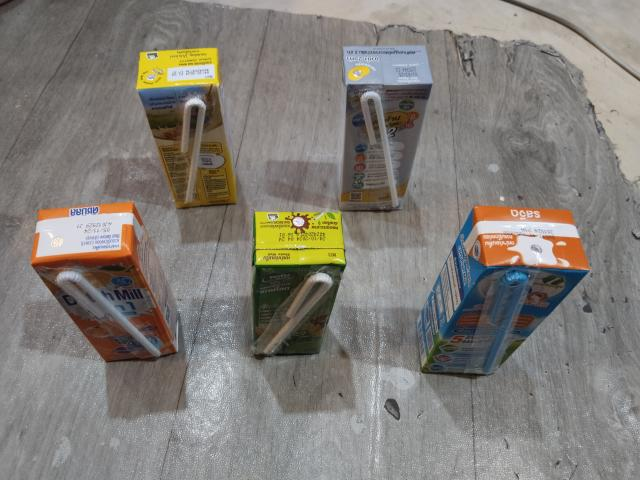drink_box: (406, 197, 602, 386), (24, 202, 181, 367), (131, 45, 244, 214), (332, 41, 429, 216), (244, 208, 346, 367)
